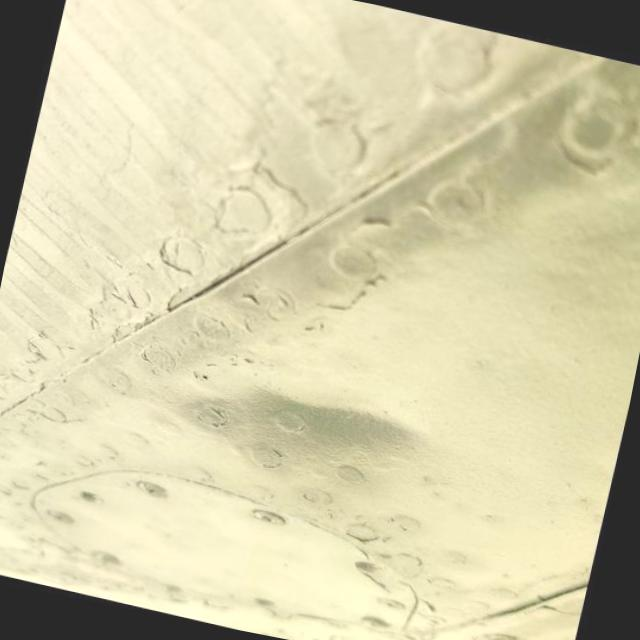dent: (175, 362, 442, 530)
